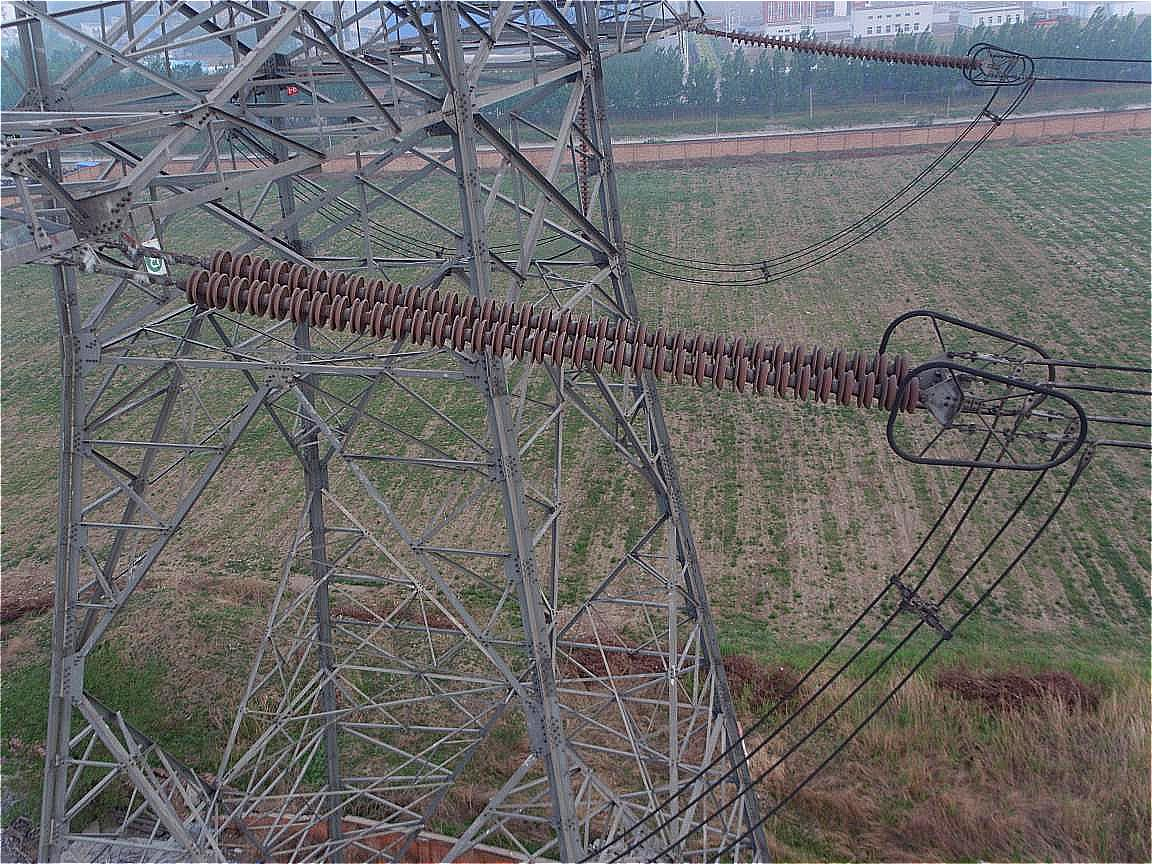insultor2: (155, 238, 935, 426)
